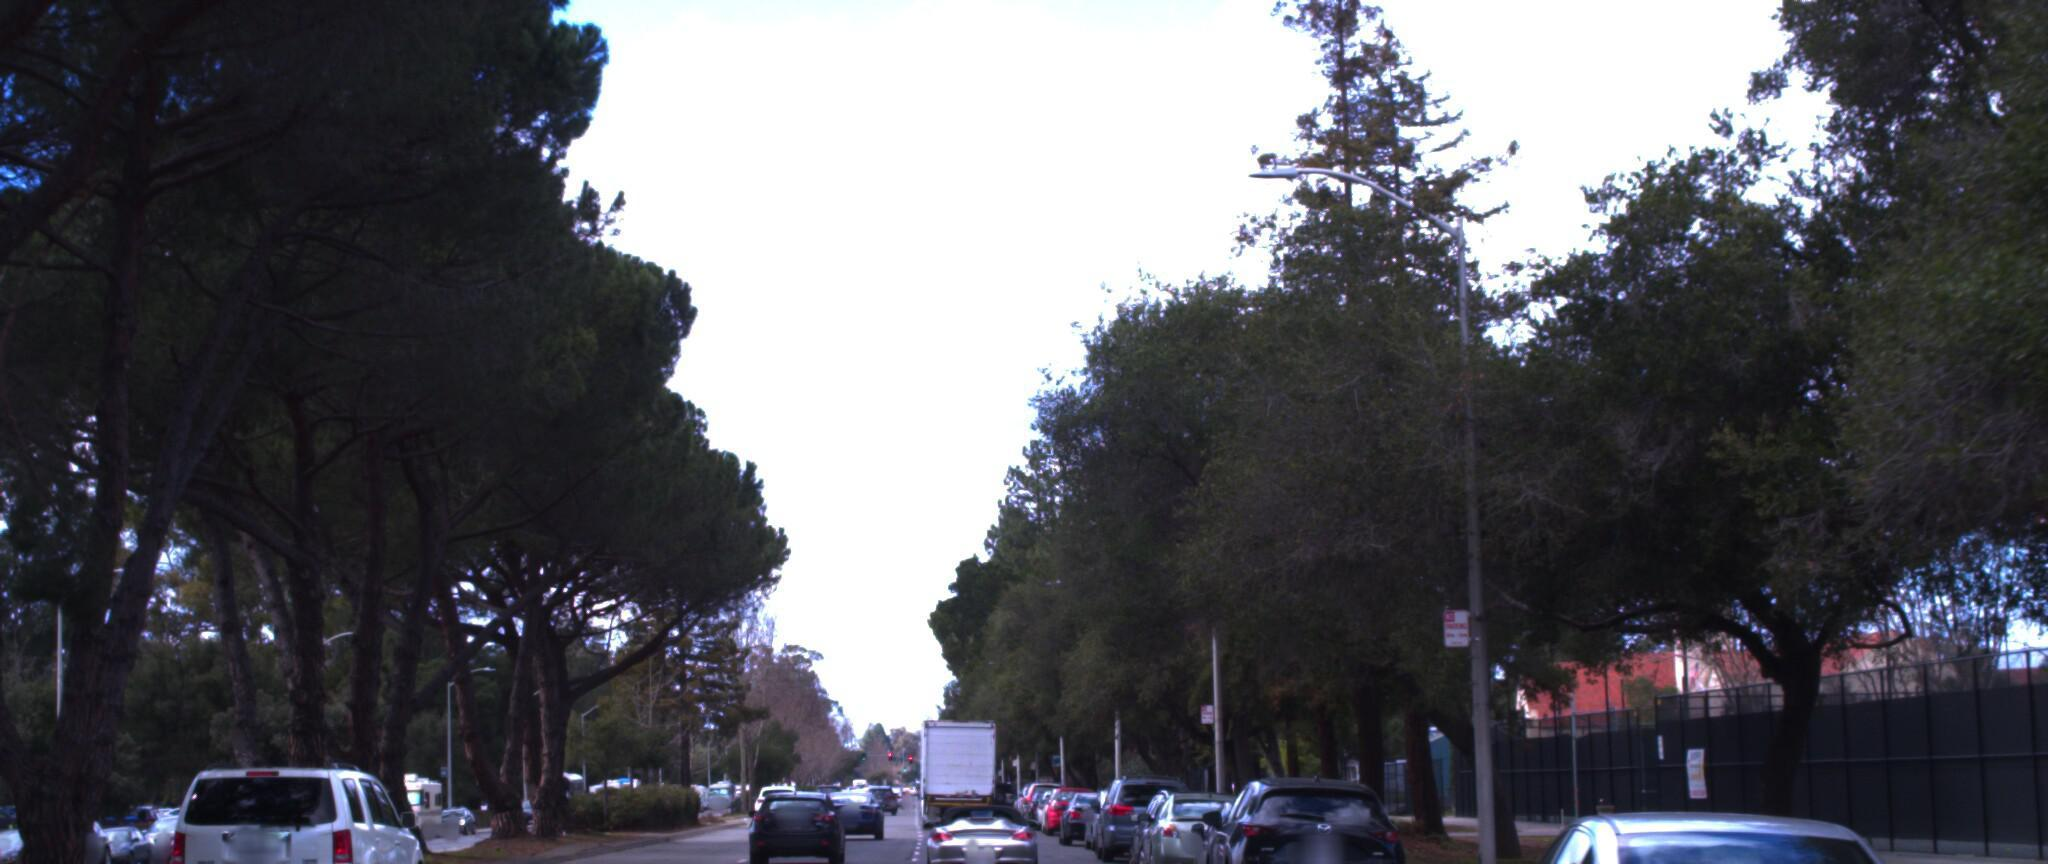car: (1424, 788, 2024, 864), (152, 741, 455, 864), (1185, 750, 1411, 864), (1119, 767, 1266, 864), (912, 760, 1045, 864), (1081, 753, 1190, 850), (734, 765, 840, 847), (0, 794, 14, 864)
